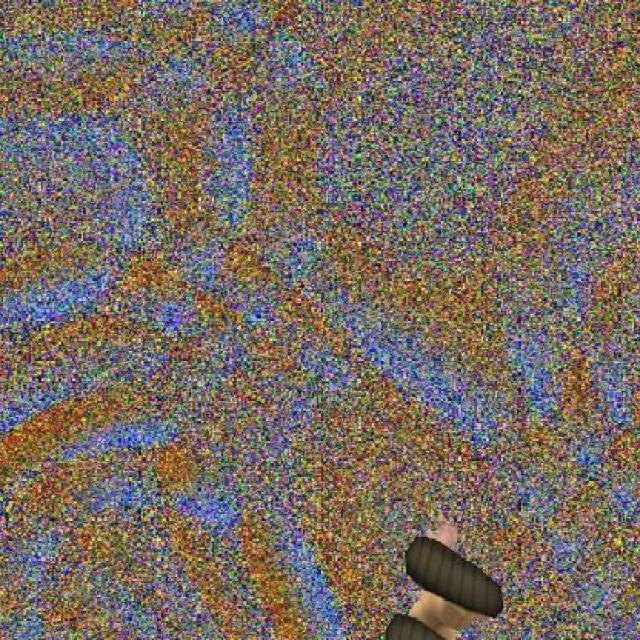Person: (383, 509, 509, 638)
